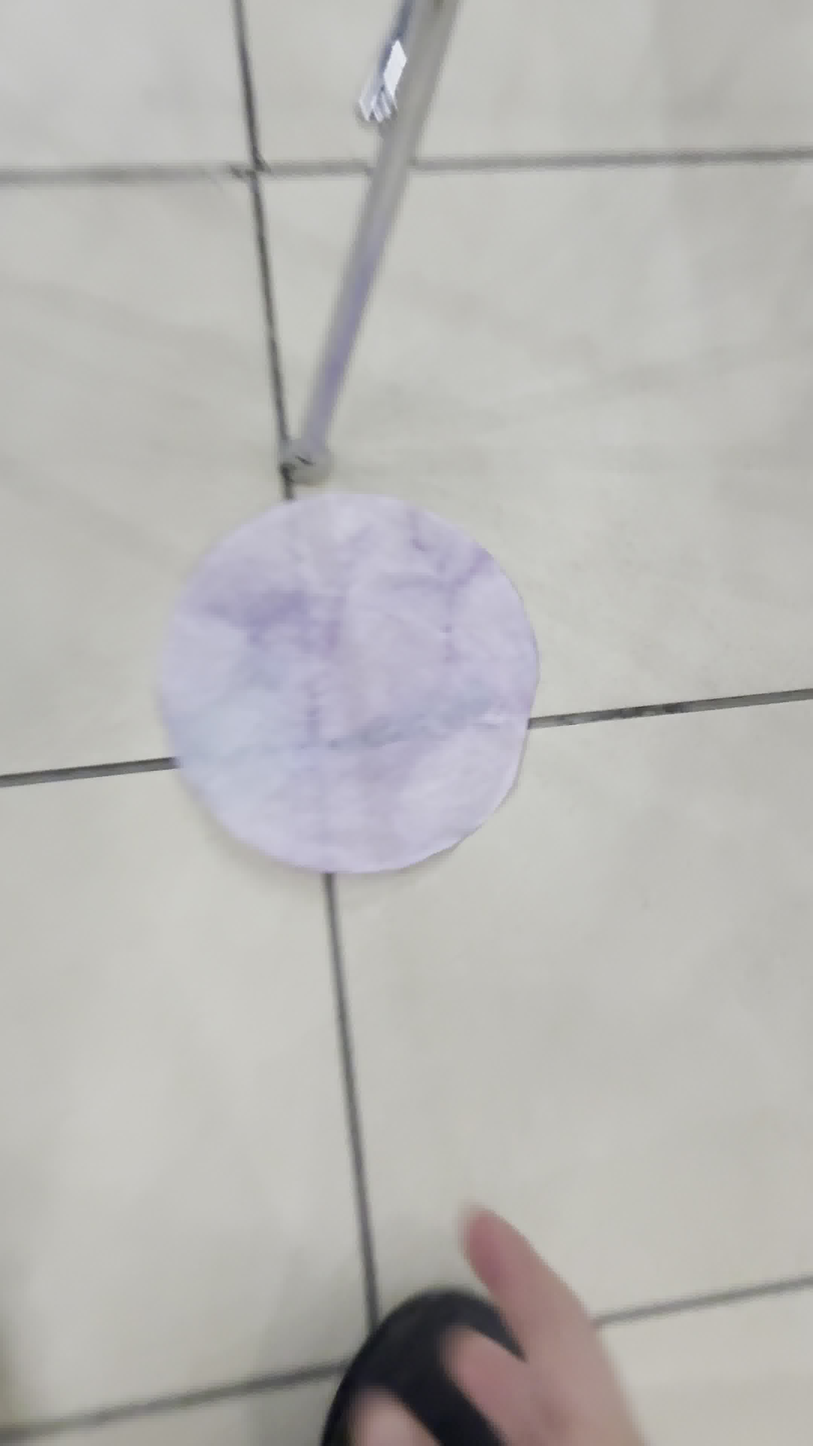Target: (149, 491, 539, 868)
